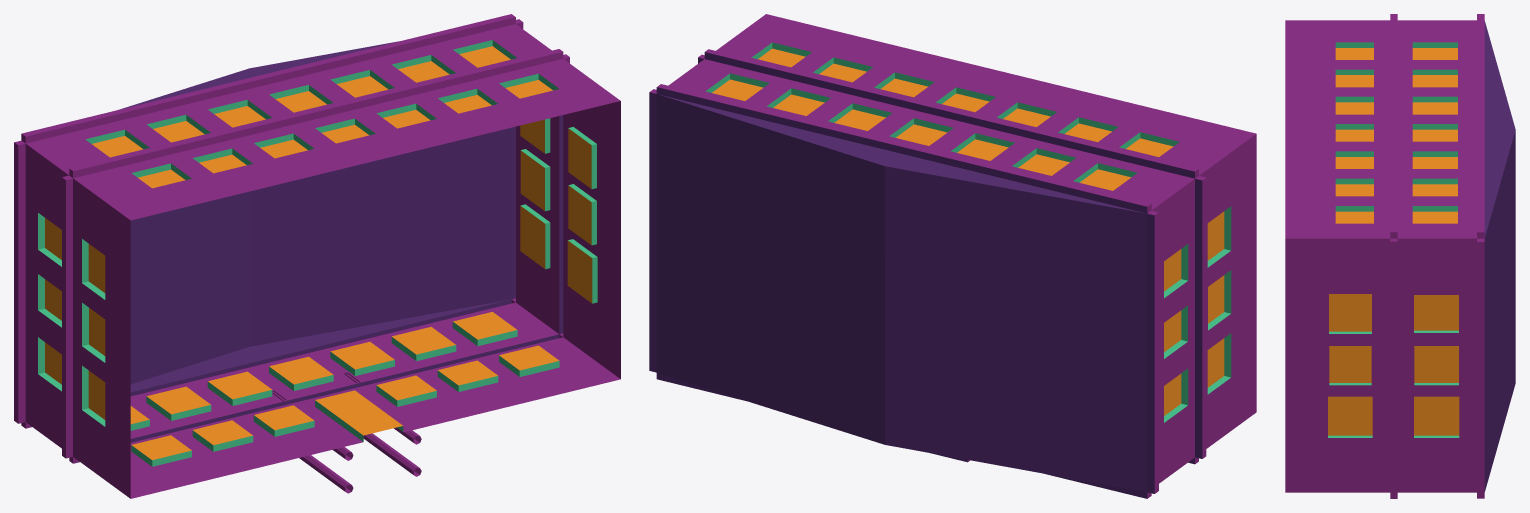
The model's file is Laża masońska Tier 3.fbx.
3 renders of one model, left to right at view 1: azimuth 30°, elevation 25°; view 2: azimuth 150°, elevation 25°; view 3: azimuth 270°, elevation 25°, orthographic. The views are drawn at different scales.
Parts seen in each view (by area): view 1: Loza Masonskav2; view 2: Loza Masonskav2; view 3: Loza Masonskav2.
Boxes of the visible parts, left/top/right/bottom form: Loza Masonskav2: left=14, top=14, right=620, bottom=498; Loza Masonskav2: left=649, top=14, right=1256, bottom=498; Loza Masonskav2: left=1285, top=14, right=1515, bottom=498.
Size of the model in its own units: 3.99 by 2.52 by 1.73.
